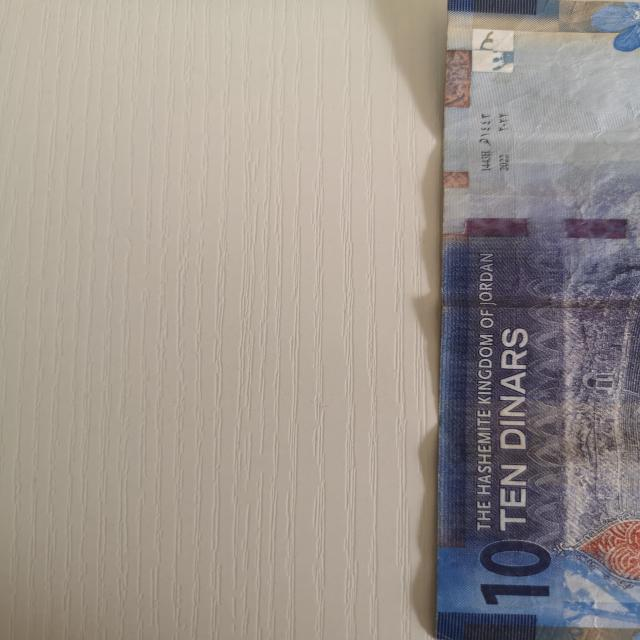10-dinar: (435, 0, 640, 640)
